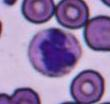N: (28, 27, 82, 78)
